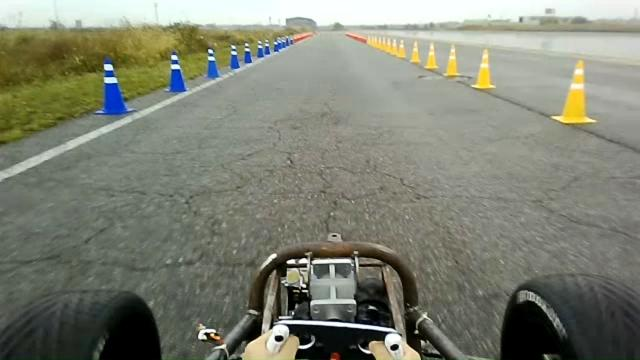blue cone: (94, 56, 136, 115), (164, 50, 188, 92), (204, 47, 221, 78), (229, 44, 240, 70), (243, 42, 253, 63), (256, 39, 264, 58)
yellow cone: (551, 59, 597, 124), (471, 48, 496, 89), (443, 44, 459, 77), (424, 41, 438, 70), (410, 40, 420, 63), (396, 39, 406, 58)
